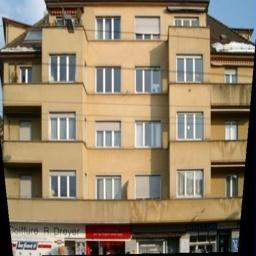building: (1, 0, 253, 256)
